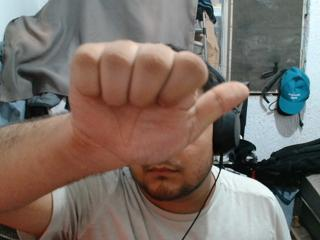Izquierda: (67, 36, 251, 167)
